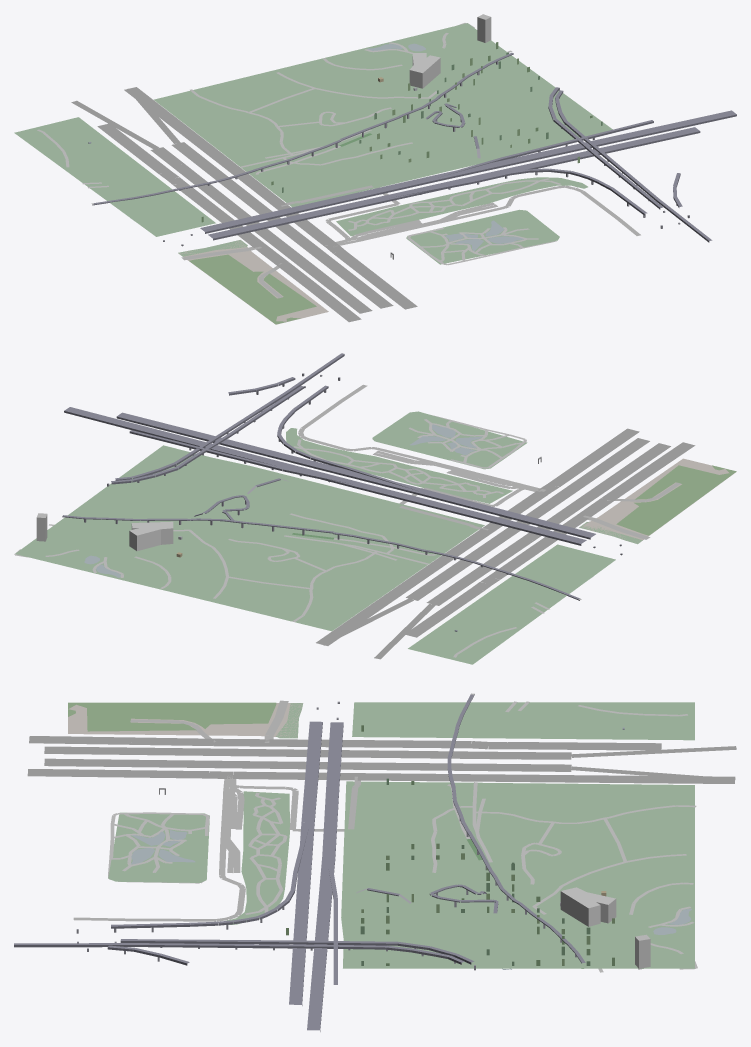
3 views of the same model, one above another, from view 1: azimuth 30°, elevation 25°; view 2: azimuth 150°, elevation 25°; view 3: azimuth 270°, elevation 25° (orthographic). The views are drawn at different scales.
Bounding box in the file's own units: 635 × 26.48 × 576.
